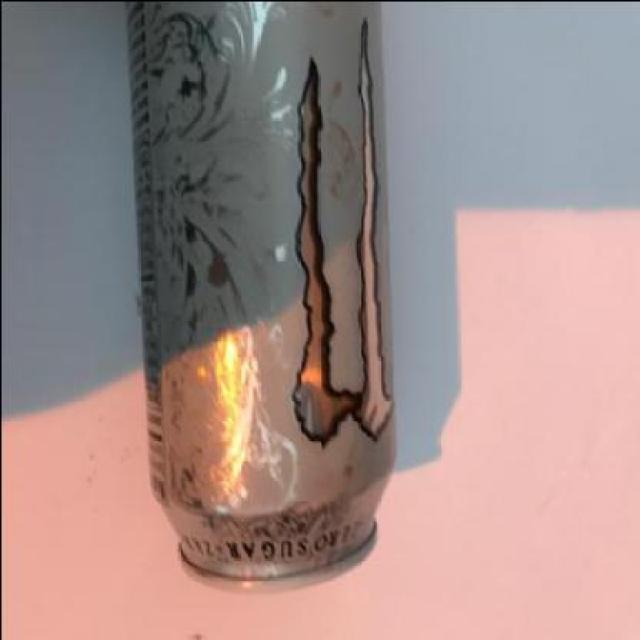METAL: (124, 1, 396, 592)
